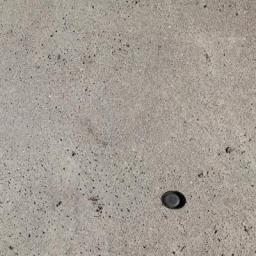FOD: (160, 186, 189, 216)
